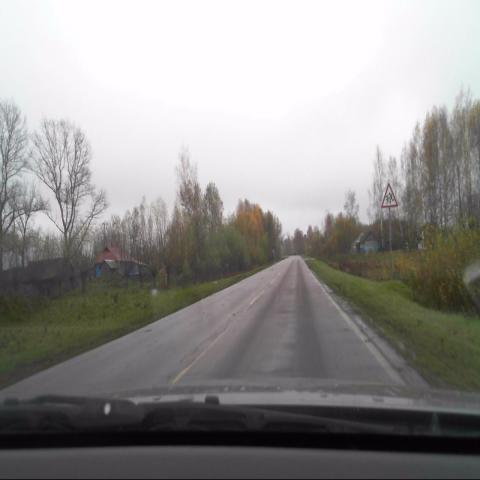1_23: (380, 181, 398, 208)
